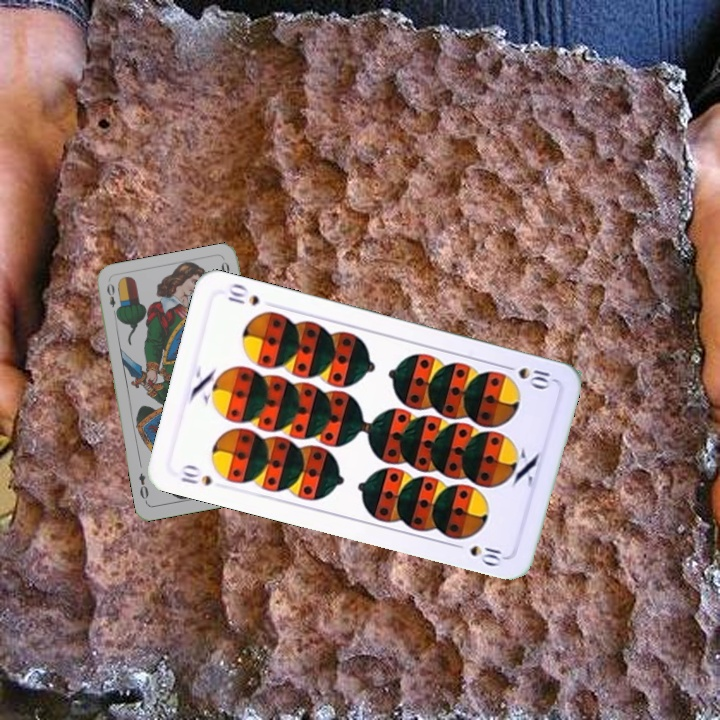EO: (103, 279, 121, 319)
S10: (498, 360, 553, 391), (176, 468, 214, 488)
